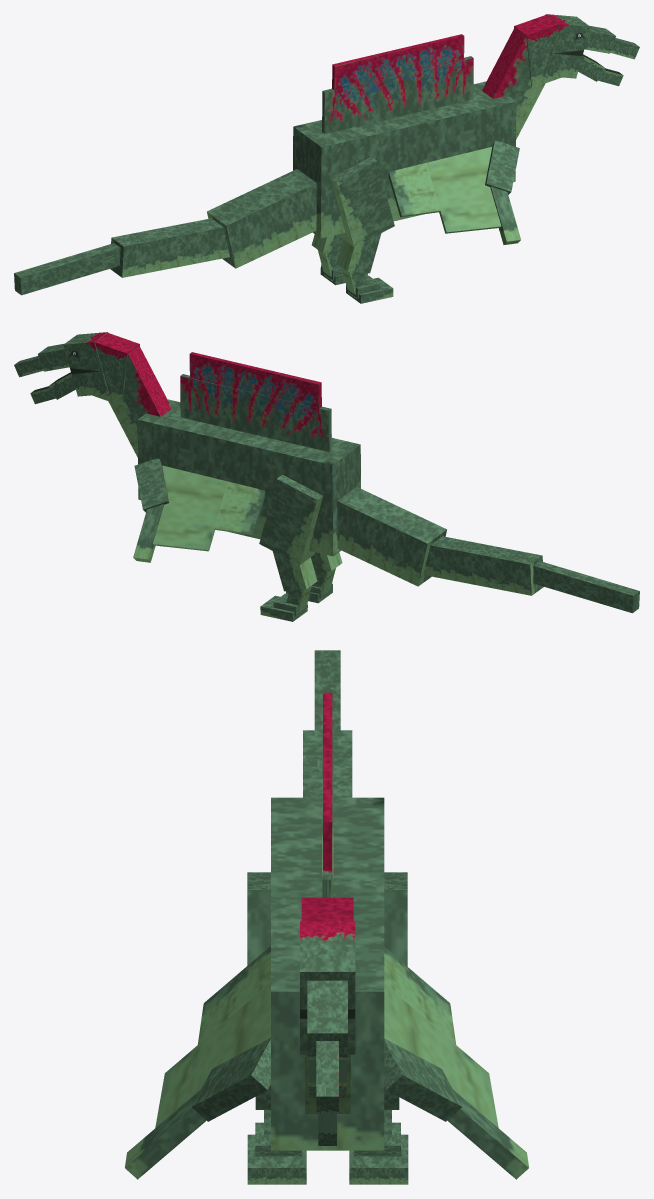
The model's file is Spinosaur.fbx.
The picture shows the model from 3 angles, top to bottom: view 1: azimuth 30°, elevation 25°; view 2: azimuth 150°, elevation 25°; view 3: azimuth 270°, elevation 25°; orthographic projection. The views are drawn at different scales.
Parts seen in each view (by area): view 1: Cube.007, Cube.011, Cube.017, Cube.008, Cube.009, Cube, Cube.015, Cube.006, Cube.010, Cube.005, Cube.002, Cube.001 (+2 smaller); view 2: Cube.007, Cube.011, Cube.016, Cube.008, Cube.009, Cube, Cube.012, Cube.006, Cube.010, Cube.013, Cube.002, Cube.018 (+2 smaller); view 3: Cube.007, Cube.017, Cube.016, Cube, Cube.002, Cube.009, Cube.018, Cube.001, Cube.011, Cube.012, Cube.015, Cube.010 (+2 smaller).
Part boxes in pixels (x1,y1,x2,y2): Cube.007: (293,81,516,238); Cube.011: (322,34,473,133); Cube.017: (388,140,520,244); Cube.008: (207,169,316,268); Cube.009: (110,218,229,277); Cube: (514,14,590,87); Cube.015: (331,157,394,246); Cube.006: (482,27,545,139); Cube.010: (14,243,120,295); Cube.005: (336,233,381,273); Cube.002: (584,25,639,59); Cube.001: (346,275,393,303); Cube.007: (137,399,360,556); Cube.011: (180,352,331,451); Cube.016: (133,458,265,562); Cube.008: (337,487,446,586); Cube.009: (424,536,543,595); Cube: (63,332,139,405); Cube.012: (259,475,322,564); Cube.006: (108,345,171,457); Cube.010: (533,561,639,613); Cube.013: (272,551,317,591); Cube.002: (14,343,69,377); Cube.018: (260,593,307,621); Cube.007: (271,797,384,1150); Cube.017: (125,946,270,1179); Cube.016: (384,947,528,1179); Cube: (300,897,355,1054); Cube.002: (307,980,347,1113); Cube.009: (303,730,352,797); Cube.018: (349,1122,408,1184); Cube.001: (247,1122,306,1184); Cube.011: (322,692,333,897); Cube.012: (384,872,407,966); Cube.015: (247,872,270,965); Cube.010: (314,650,340,730).
Bounding box in the file's own units: 310 × 108 × 87.5.
